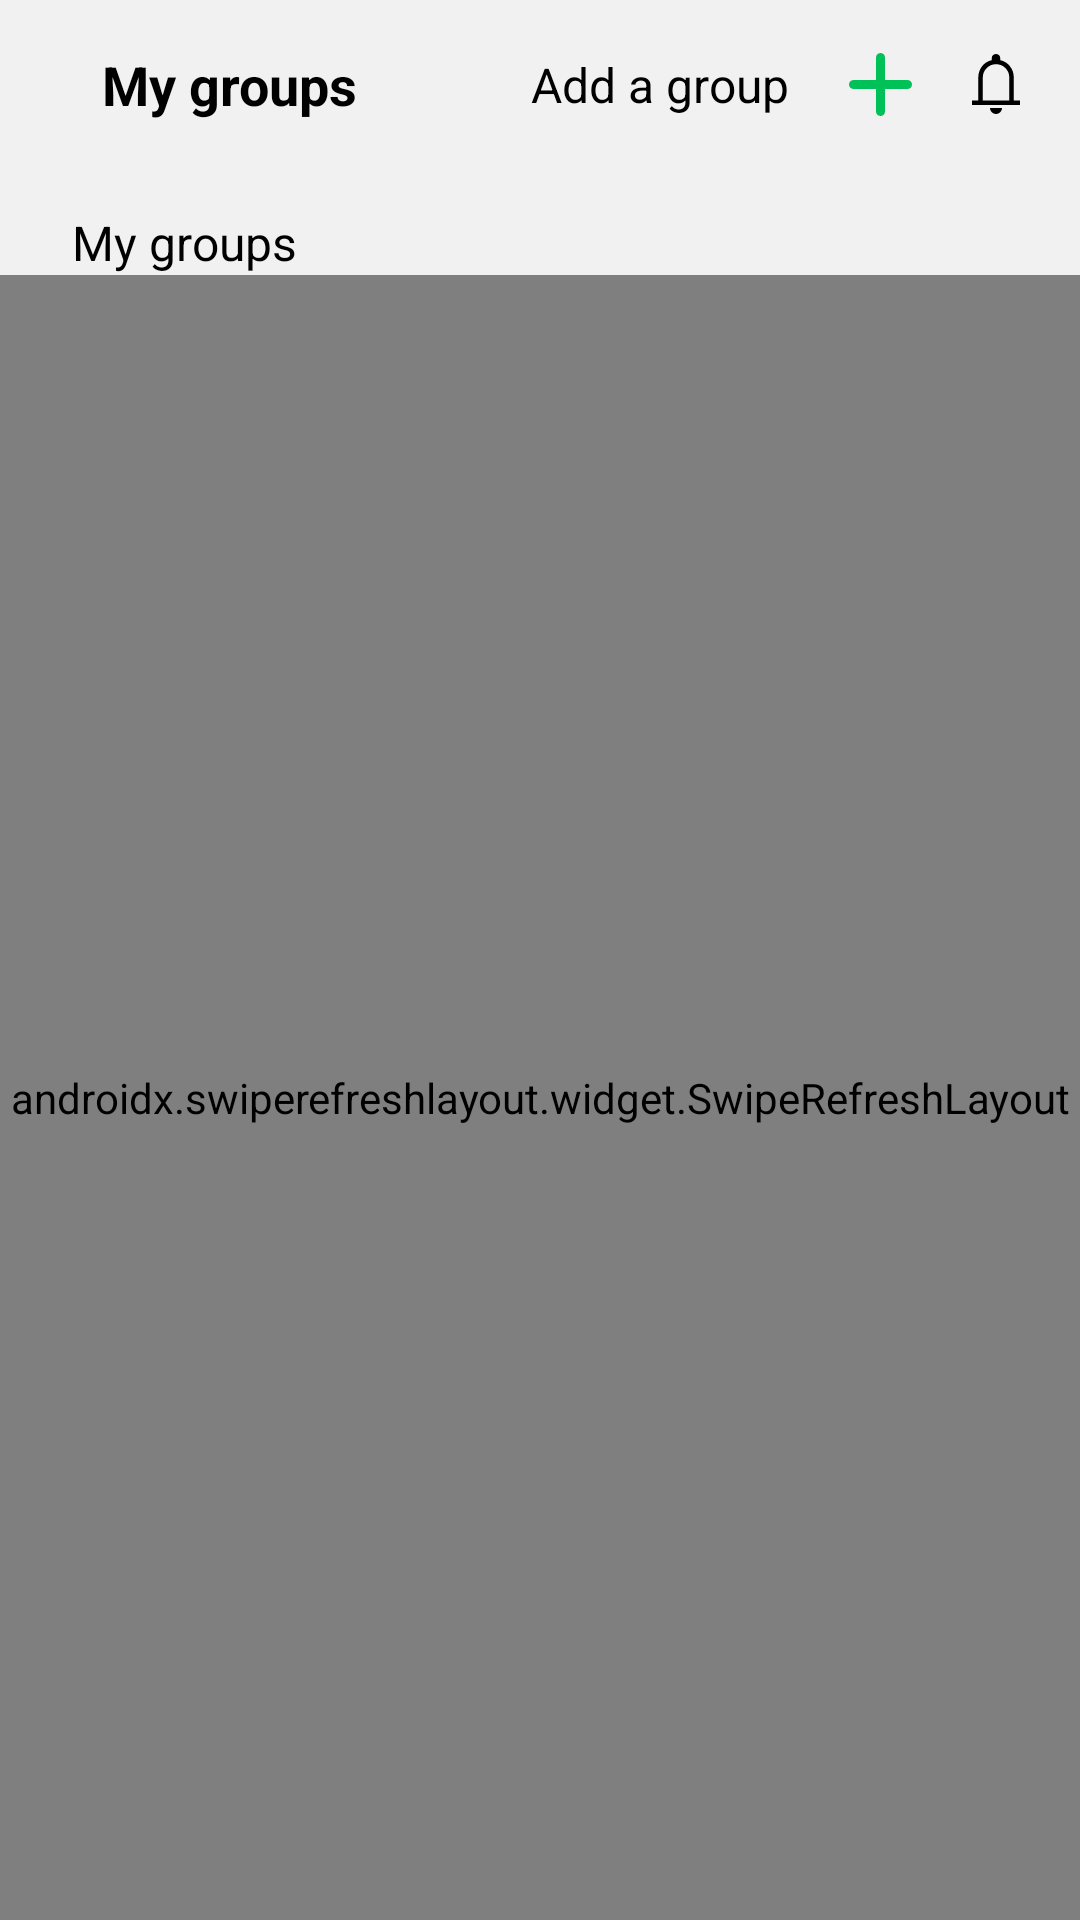

Named icons in this screenshot (1080x1920) and their bounding boxes, rect(x1, y1, x2, y2):
notification: rect(972, 54, 1020, 114)
plus: rect(849, 53, 912, 116)
